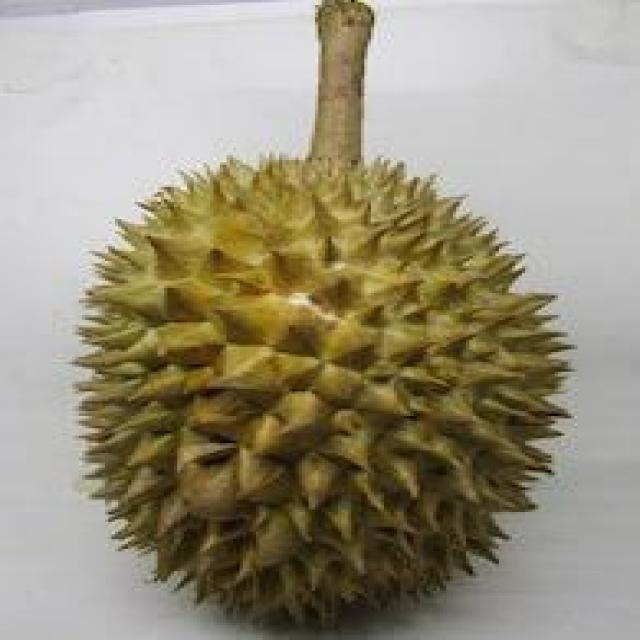mature: (77, 160, 568, 626)
